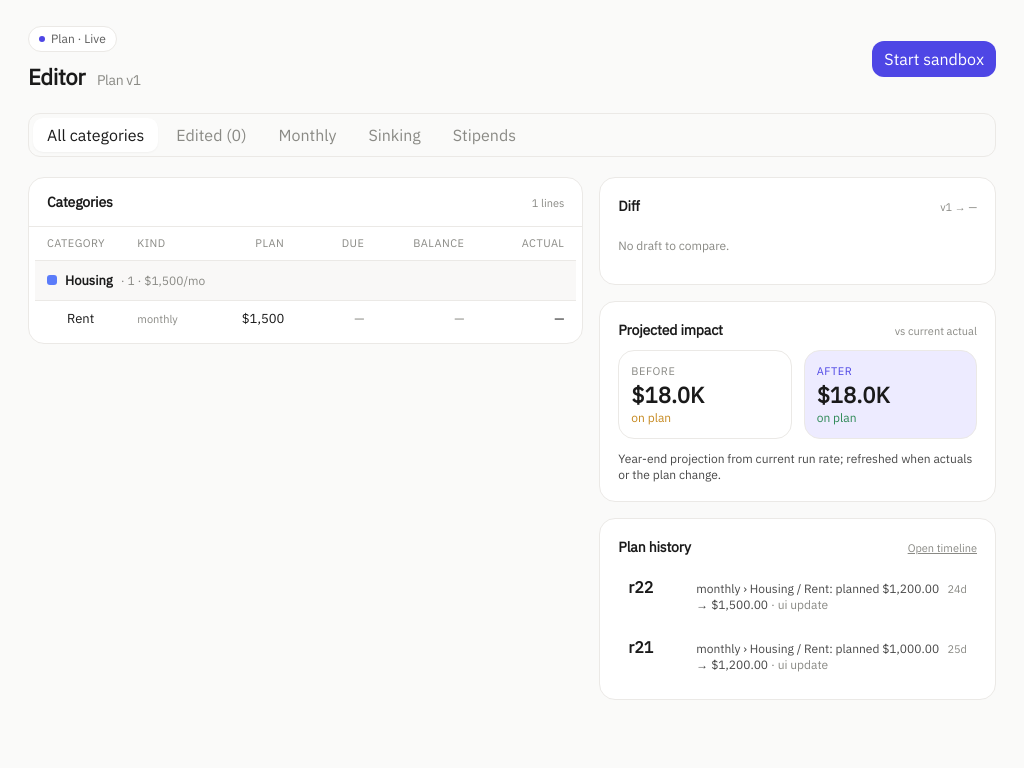
Test case: PlanPage history › opens the full History sheet via the Open timeline action
Expected: the heading "Plan history" is shown, [618,536,691,556]
Click the button "Open timeline".
click(942, 548)  # box [908,540,977,556]
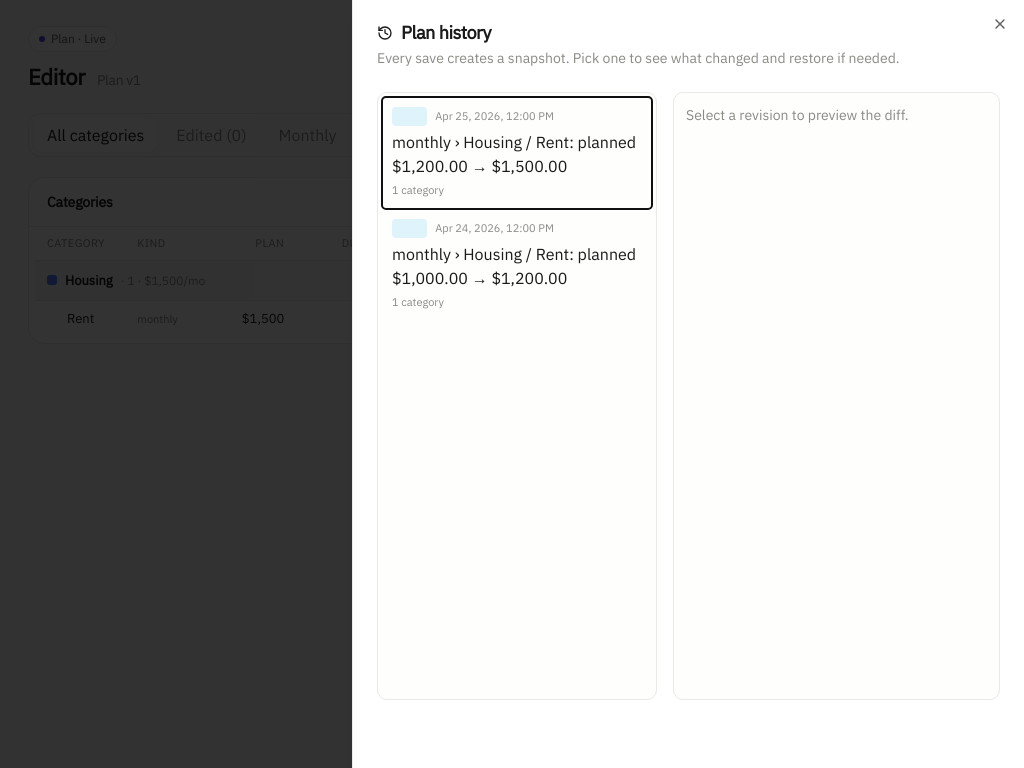
Expected: the text "monthly › Housing / Rent: planned $1,200.00 → $1,500.00" is shown, [392,130,642,178]
